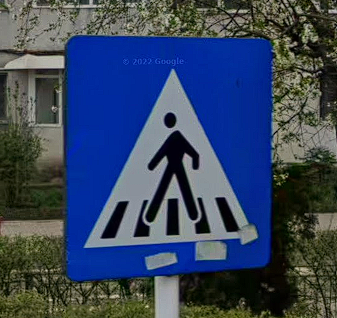trecere_pietoni: (61, 30, 276, 278)
